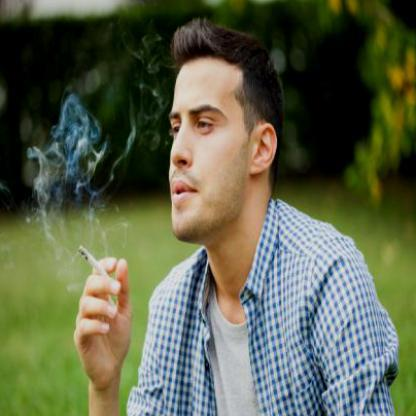cigarette: (77, 245, 108, 276)
person: (130, 20, 379, 416)
smoke: (33, 100, 108, 212), (128, 28, 166, 146)
